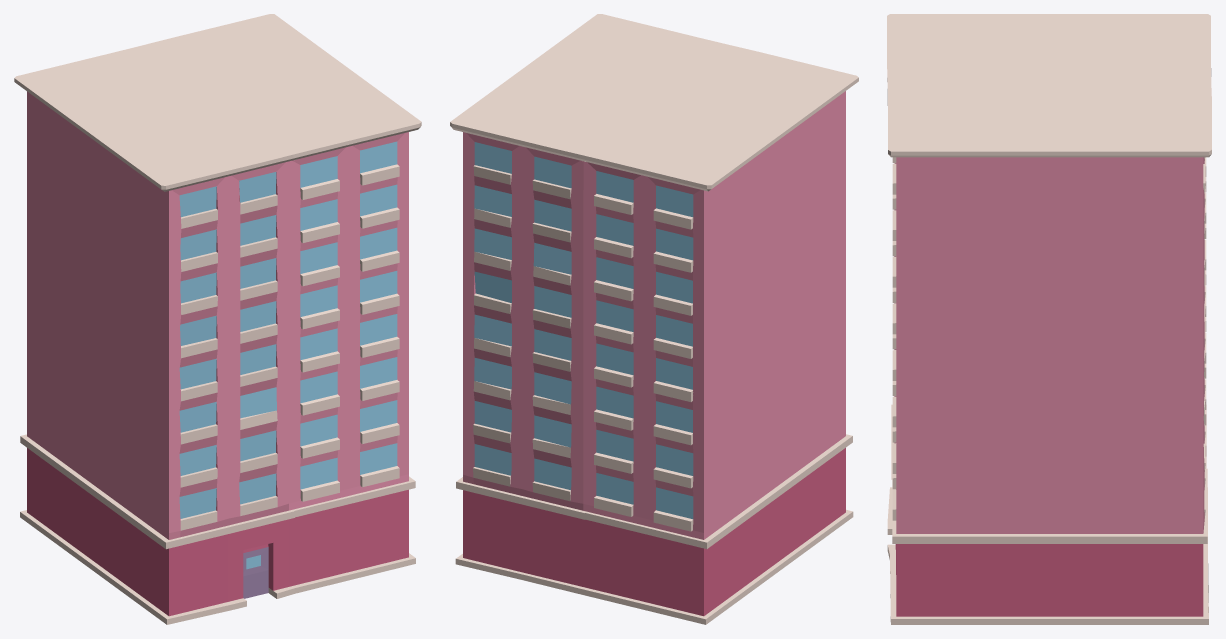
File: flatD.fbx
3 renders of one model, left to right at view 1: azimuth 30°, elevation 25°; view 2: azimuth 150°, elevation 25°; view 3: azimuth 270°, elevation 25°, orthographic. The views are drawn at different scales.
Visible parts, largest first — view 1: FlatD; view 2: FlatD; view 3: FlatD.
Boxes of the visible parts, x1=… form: FlatD: x1=14, y1=14, x2=421, y2=624; FlatD: x1=450, y1=14, x2=858, y2=624; FlatD: x1=887, y1=14, x2=1211, y2=624.
Bounding box in the file's own units: 2060 × 3325 × 2054.
